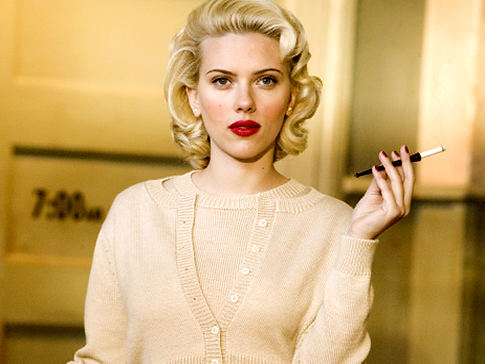cigarette: (408, 139, 448, 162)
